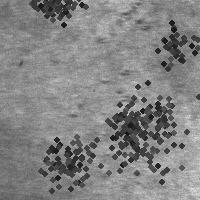rolled-in_scale: (79, 99, 177, 197), (108, 75, 200, 169), (28, 123, 102, 197), (68, 63, 139, 139), (142, 12, 200, 78), (99, 96, 151, 148), (22, 0, 88, 33), (99, 1, 145, 39)
